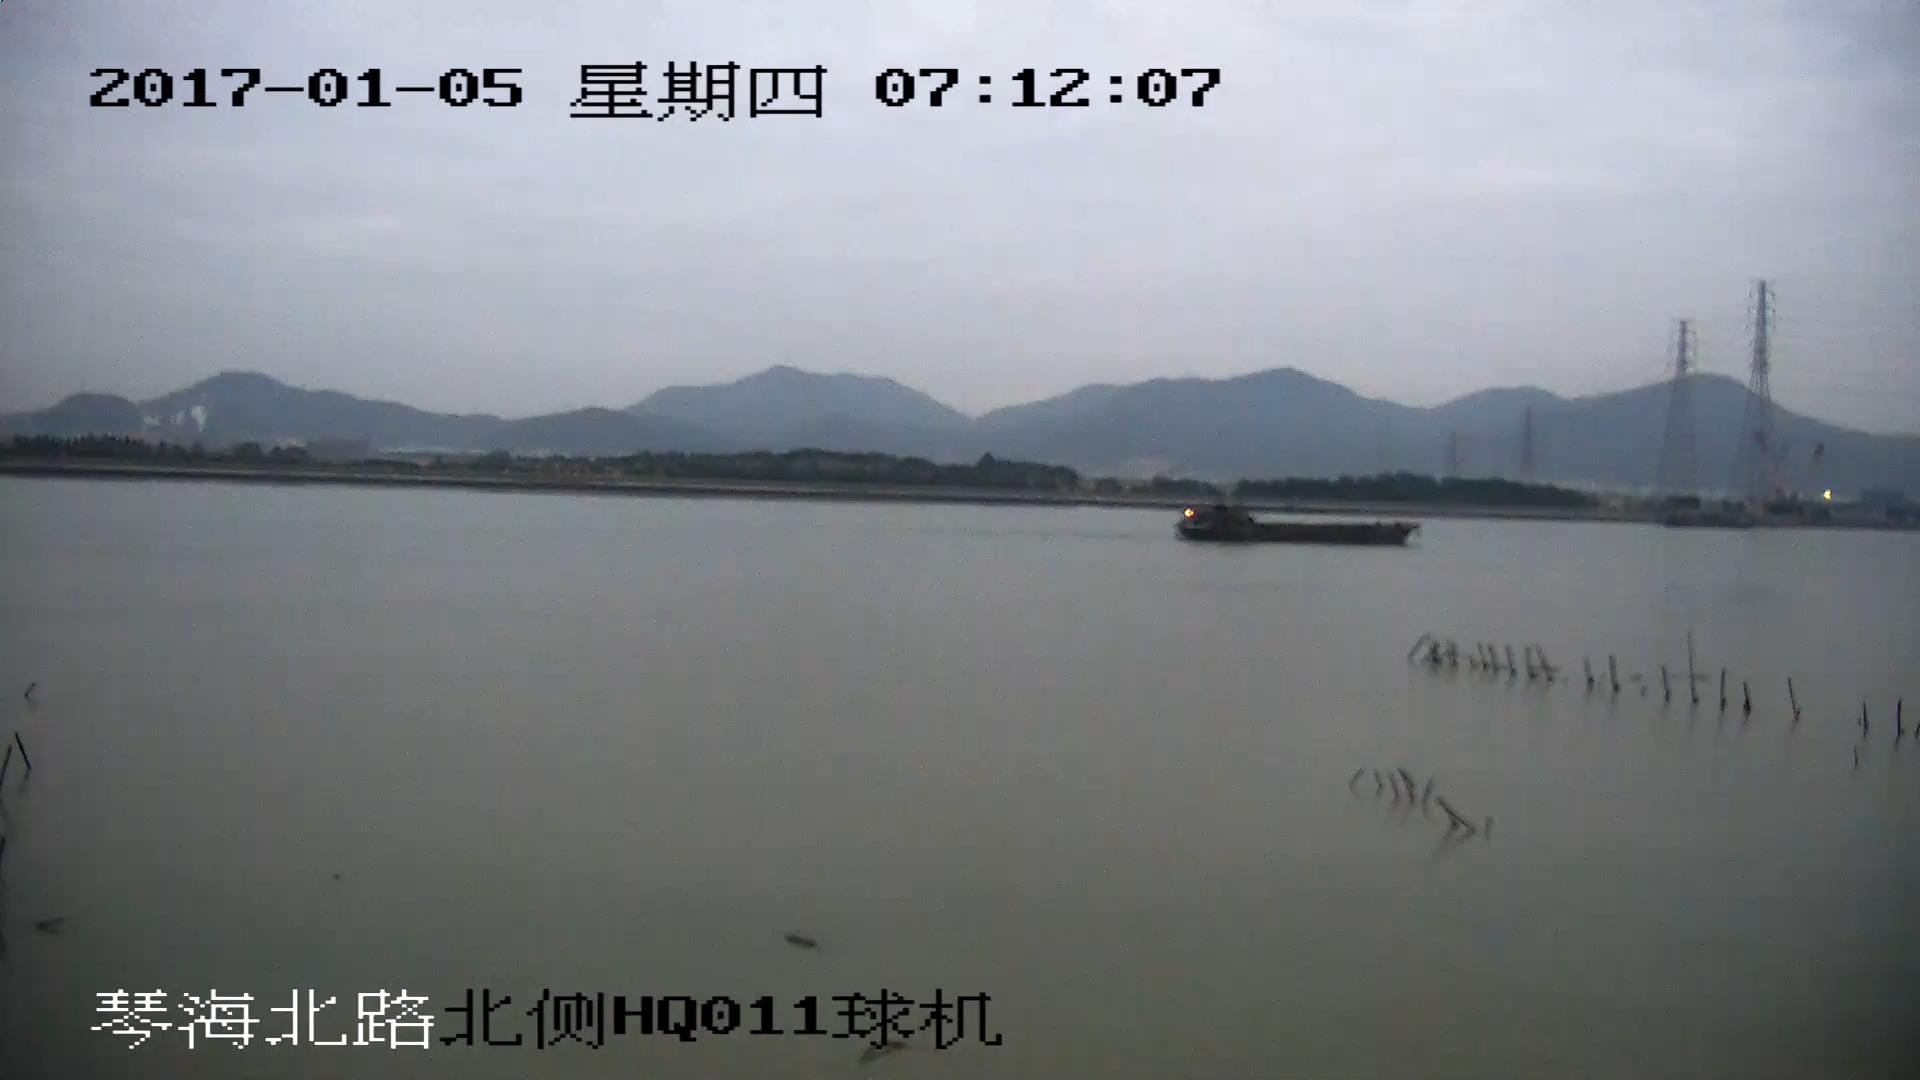bulk cargo carrier: (1175, 501, 1418, 548)
